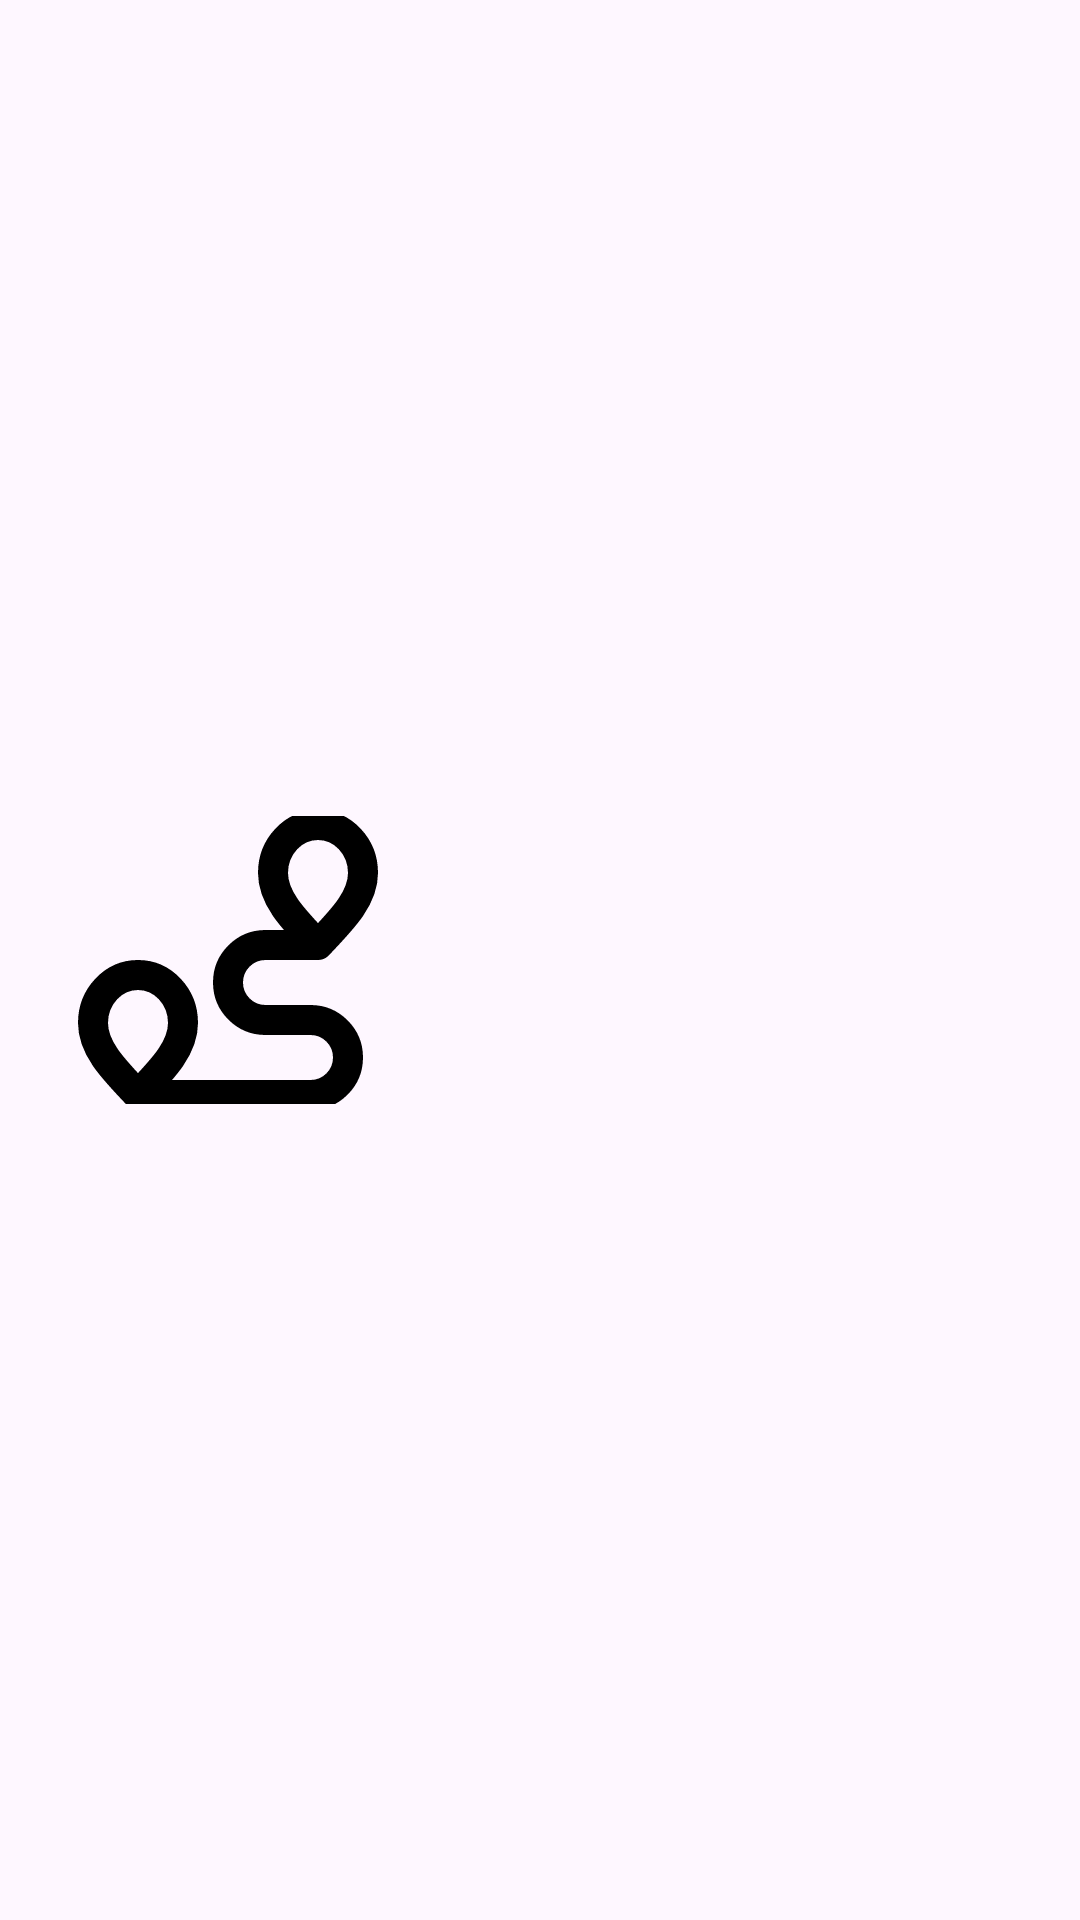

Icons on this 1080x1920 Android screen, each with the point to tap as (x=x, y=y):
route: (x=228, y=960)
